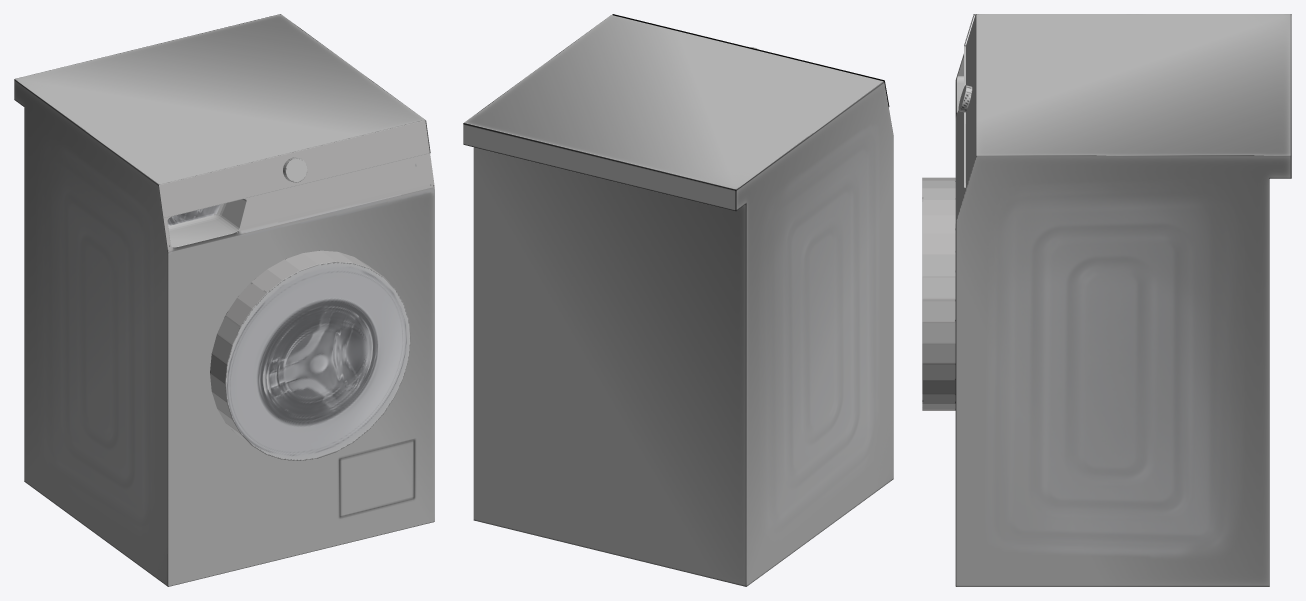
The model's file is washingmachine.obj.
The picture shows the model from 3 angles, left to right: view 1: azimuth 30°, elevation 25°; view 2: azimuth 150°, elevation 25°; view 3: azimuth 270°, elevation 25°; orthographic projection. The views are drawn at different scales.
Visible parts, largest first — view 1: Cube_Cube.004; view 2: Cube_Cube.004; view 3: Cube_Cube.004.
Boxes of the visible parts, x1=… form: Cube_Cube.004: x1=14, y1=14, x2=434, y2=586; Cube_Cube.004: x1=463, y1=14, x2=893, y2=586; Cube_Cube.004: x1=922, y1=14, x2=1291, y2=586.
Size of the model in its own units: 0.6 by 0.8504 by 0.6599.
